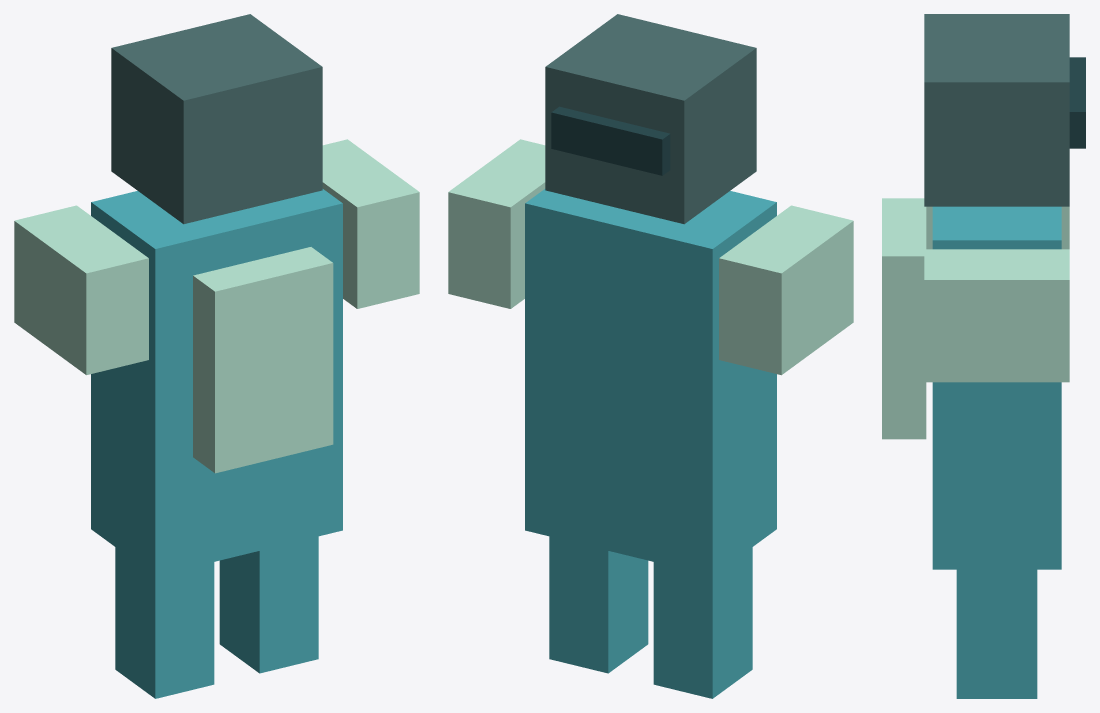
The model's file is hider.glb.
3 views of the same model, side by side, from view 1: azimuth 30°, elevation 25°; view 2: azimuth 150°, elevation 25°; view 3: azimuth 270°, elevation 25° (orthographic).
Visible parts, largest first — view 1: body, helmet, pack, left-shoulder, left-leg, right-shoulder, right-leg; view 2: body, helmet, left-shoulder, left-leg, right-shoulder, right-leg, visor; view 3: body, helmet, right-shoulder, right-leg, pack, visor, left-shoulder.
Part boxes in pixels (box(x1,y1,x2,y2)): body: box(91, 189, 342, 576); helmet: box(111, 14, 322, 224); pack: box(193, 247, 333, 473); left-shoulder: box(14, 205, 148, 375); left-leg: box(115, 547, 214, 698); right-shoulder: box(322, 139, 419, 308); right-leg: box(219, 536, 318, 673); body: box(525, 189, 776, 576); helmet: box(545, 14, 756, 224); left-shoulder: box(719, 205, 853, 375); left-leg: box(653, 547, 752, 698); right-shoulder: box(448, 139, 545, 308); right-leg: box(549, 536, 648, 673); visor: box(551, 106, 670, 175); body: box(932, 206, 1061, 569); helmet: box(924, 14, 1069, 206); right-shoulder: box(924, 249, 1069, 382); right-leg: box(956, 569, 1037, 698); pack: box(882, 198, 926, 439); visor: box(1069, 57, 1085, 148); left-shoulder: box(926, 206, 1069, 249).
Size of the model in its own units: 0.96 by 1.67 by 0.505.
